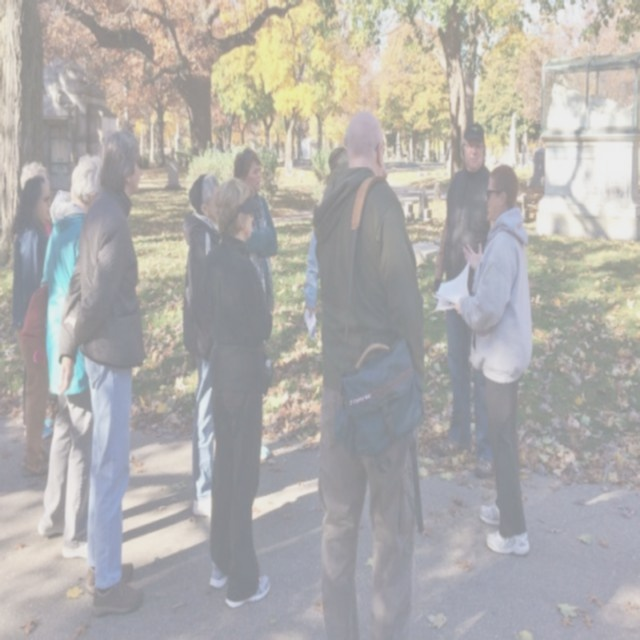pessoa: (307, 106, 432, 639), (56, 120, 150, 621), (194, 175, 276, 612), (452, 162, 534, 557), (36, 152, 105, 561), (431, 118, 495, 480), (179, 170, 224, 520), (12, 172, 54, 478), (302, 142, 352, 322), (231, 145, 278, 320), (18, 159, 54, 237)
